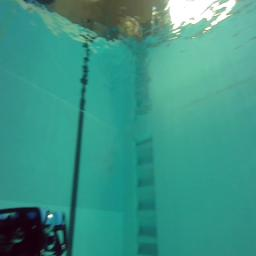front: (0, 206, 66, 256)
